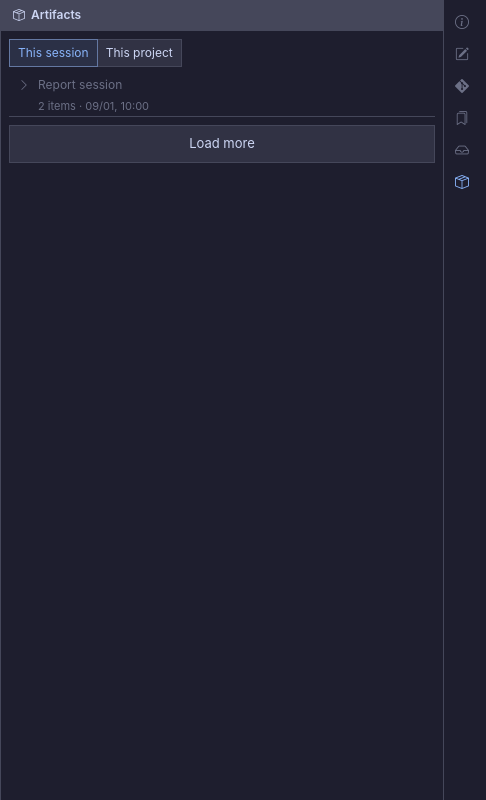
Test case: switches resource scopes without waiting for obsolete pagination
What coordinates should you click on to do the following:
click the button "Load more"
I would click on:
 (222, 144)
Its box is [9,124,435,162].
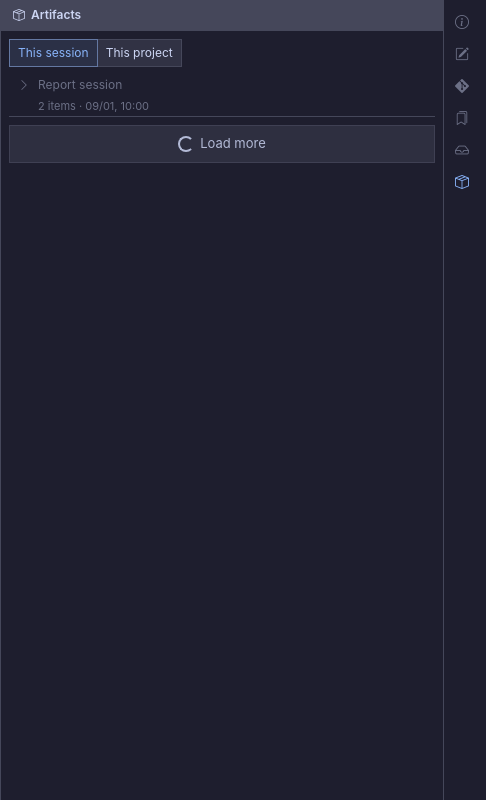
What coordinates should you click on to do the following:
click the radio button labelled "This project"
I would click on:
 (139, 53)
Its box is [97,39,182,67].
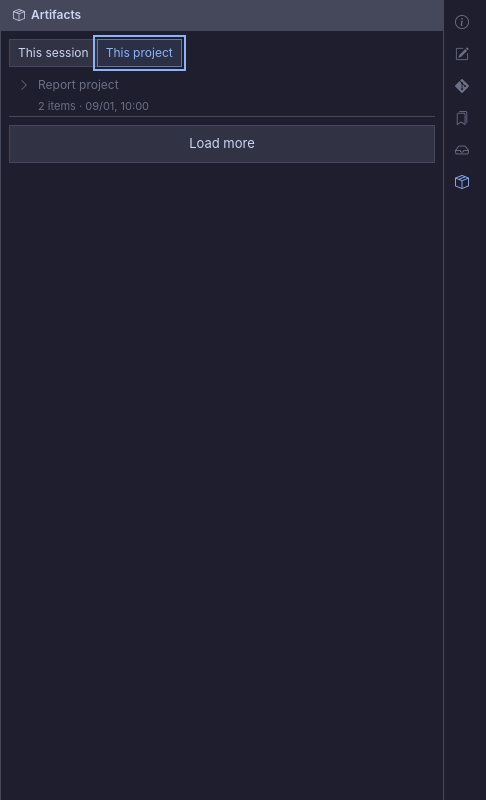
Expected: the text "Report project" is shown, [38,77,119,92]
